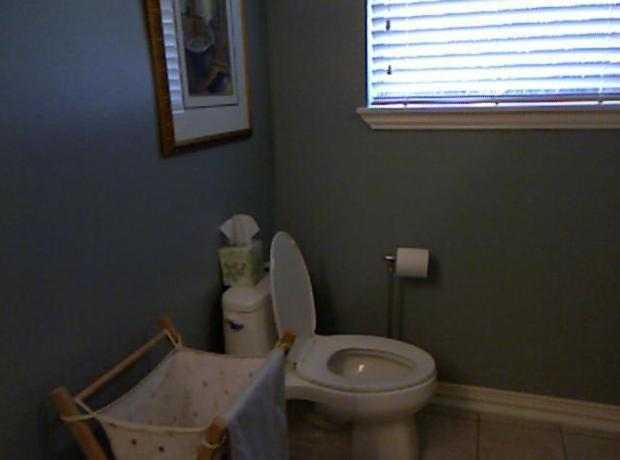Sanitario: (226, 232, 437, 457)
